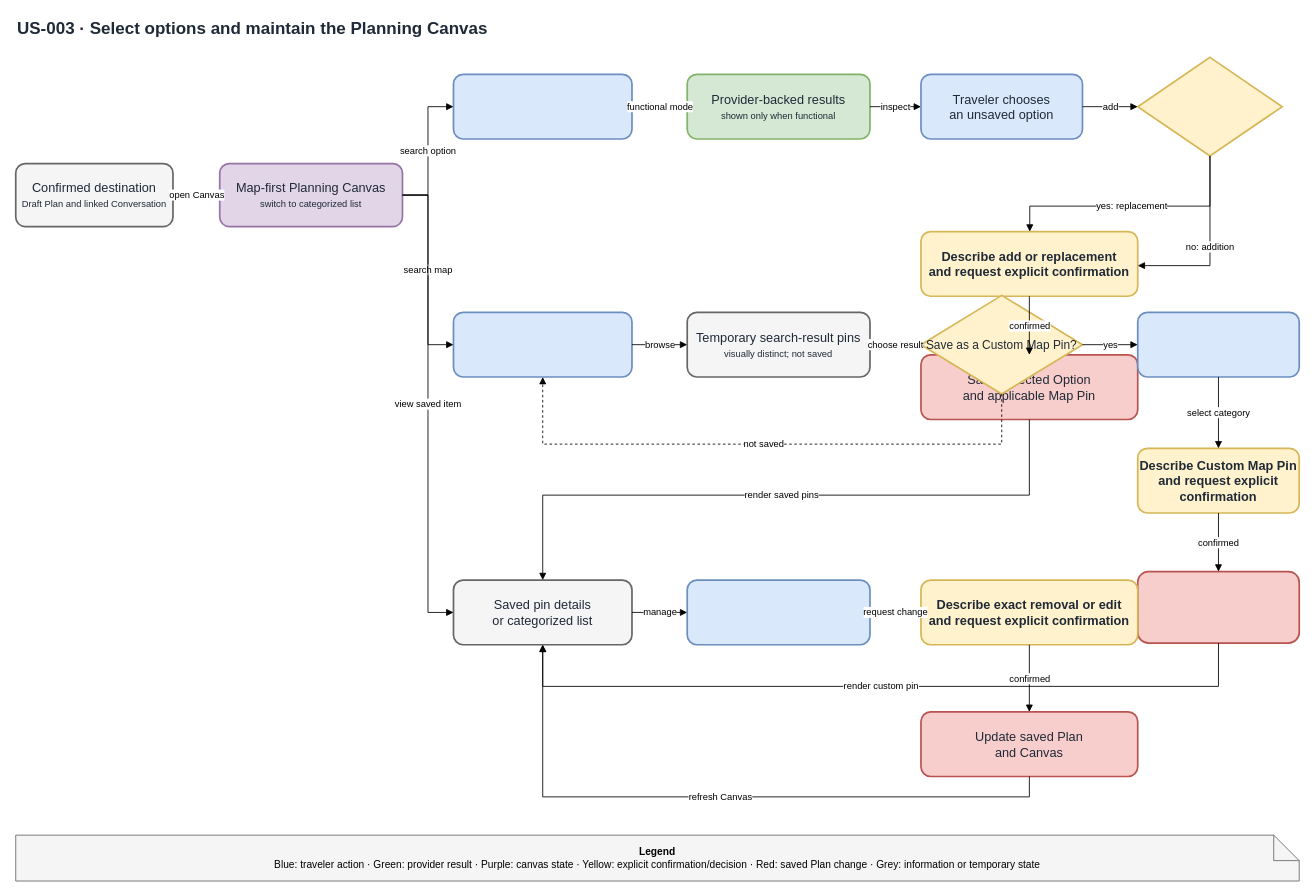
Some shapes in this 1314 by 896 pixel diagram are drawn without their labels. The shapes that lost their labels are listed below. From the top down, each one's box as (x1, y1, x2, y2) in pixels, then its label:
(452, 73, 632, 139): Canvas option search stay · flight · car rental
(1136, 56, 1283, 156): Single-choice option already saved?
(452, 311, 632, 377): Map place search stay · restaurant · activity
(1136, 311, 1300, 377): Choose category stay · restaurant · activity
(686, 579, 870, 645): Remove saved item, or edit Custom Map Pin
(1136, 570, 1300, 643): Save lightweight Custom Map Pin no price, availability, or supplier link
